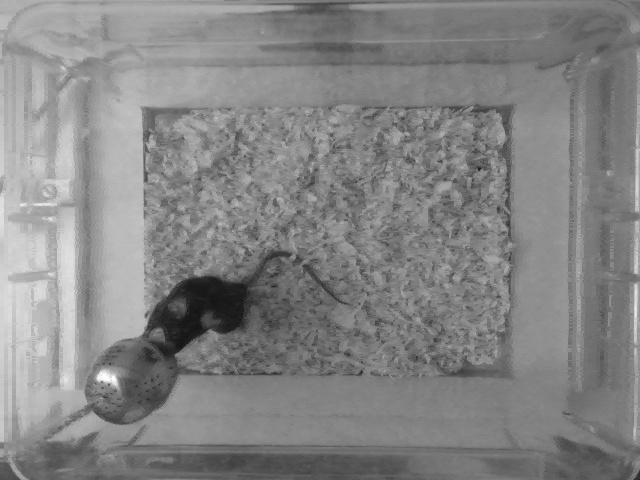mice: (142, 245, 353, 358)
